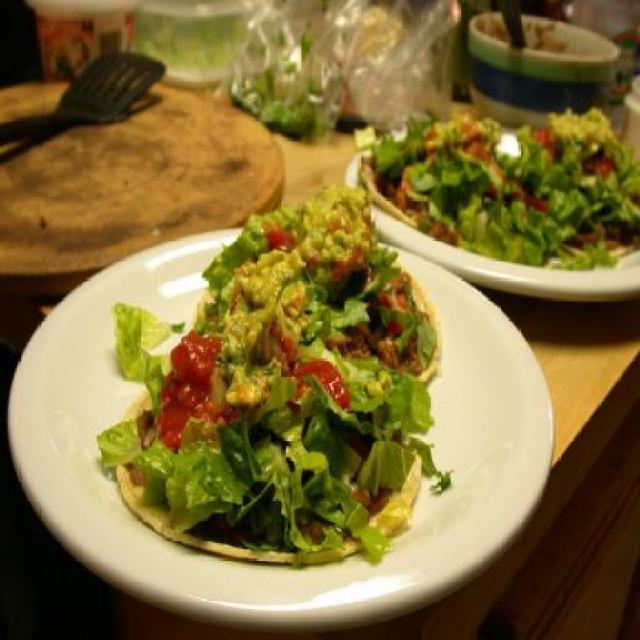Salad: (92, 170, 457, 558), (366, 105, 622, 264), (529, 103, 640, 232)
